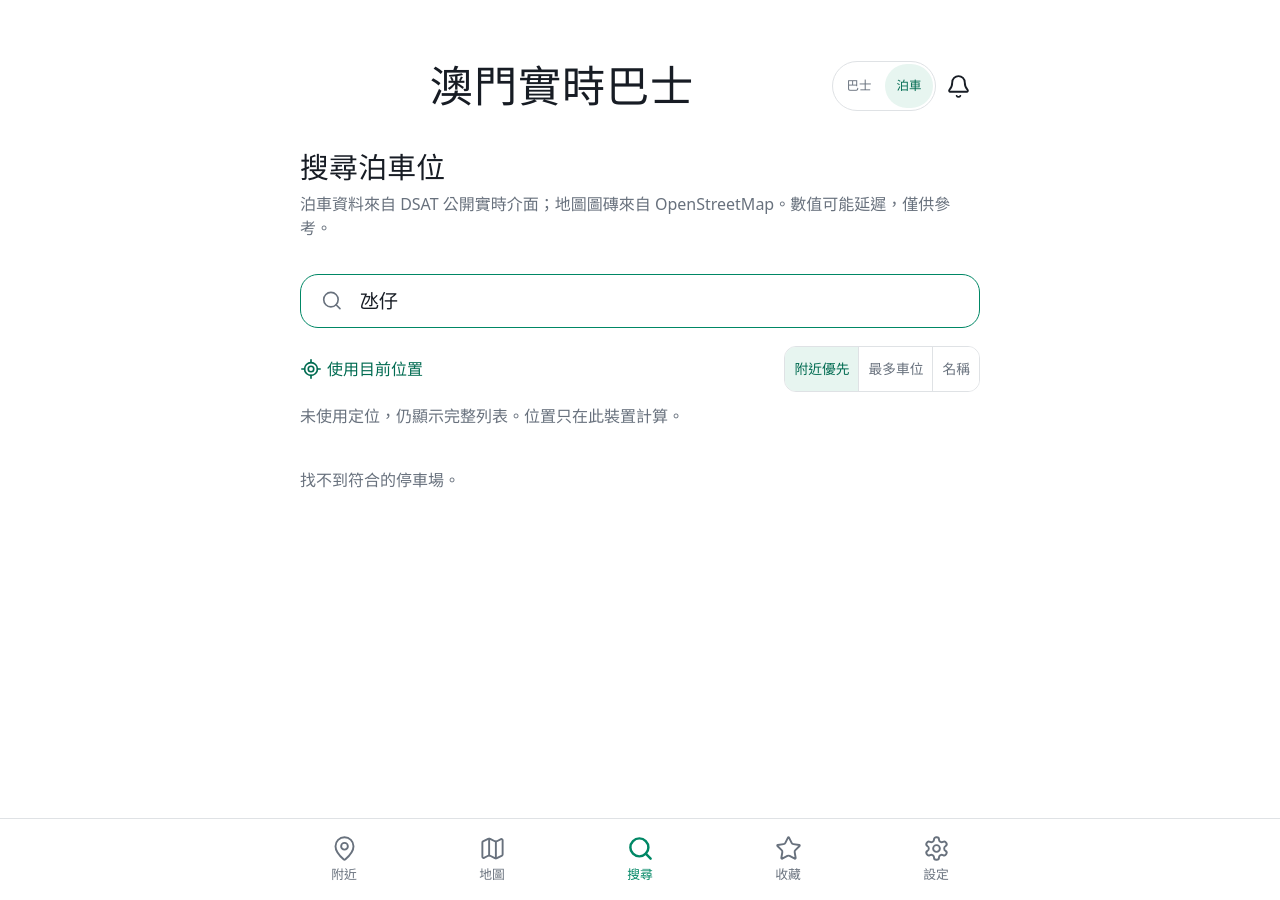
Test: app Pages asset paths › remembers a parking search query while switching modes
Expected: the search field named "搜尋停車場名稱或位置" holds "氹仔", [358,286,959,316]
Click the button with aria-label "切換至巴士模式". click: (859, 86)
box: [835,64,883,108]
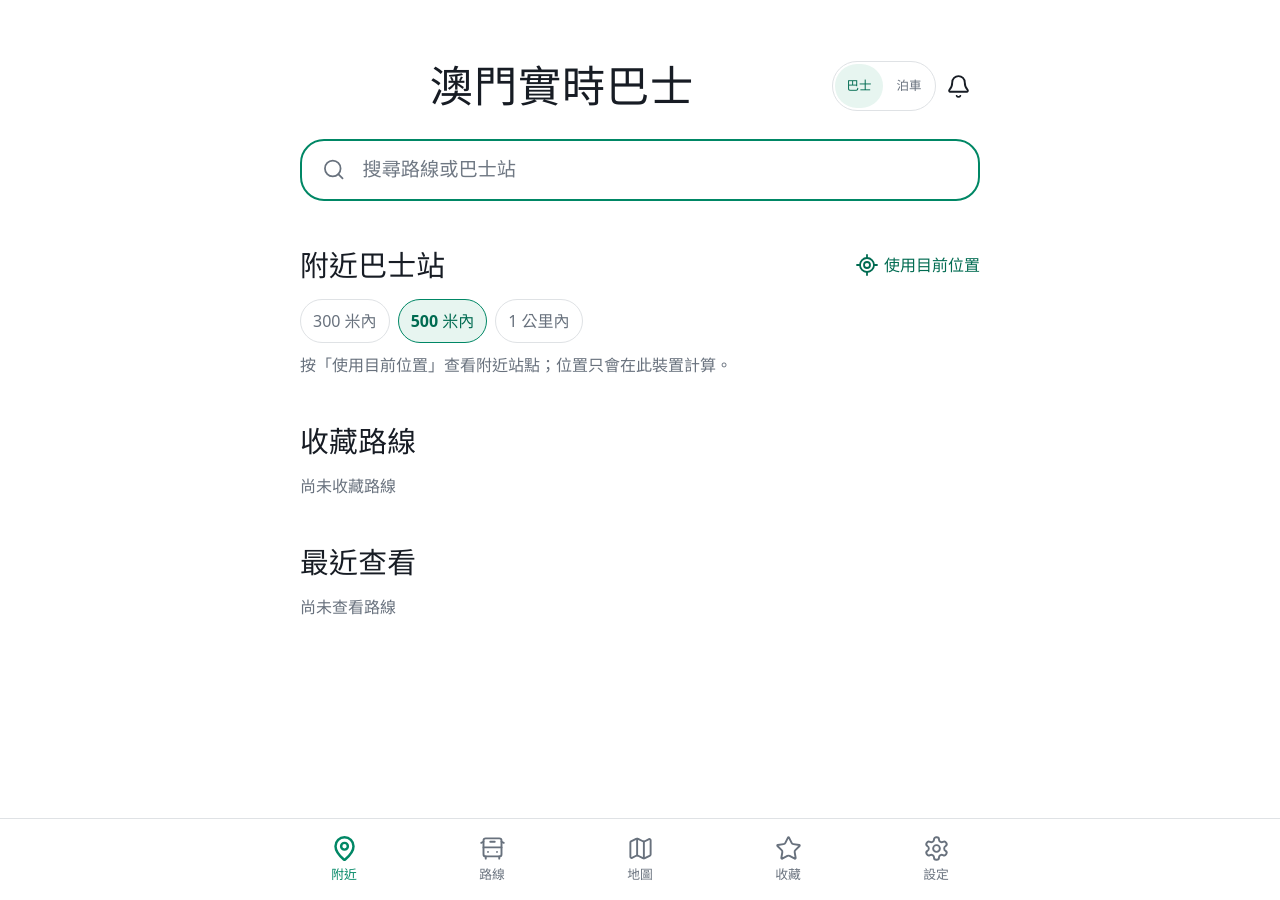
Click the button with aria-label "切換至泊車模式". click: (909, 86)
box: [885,64,933,108]
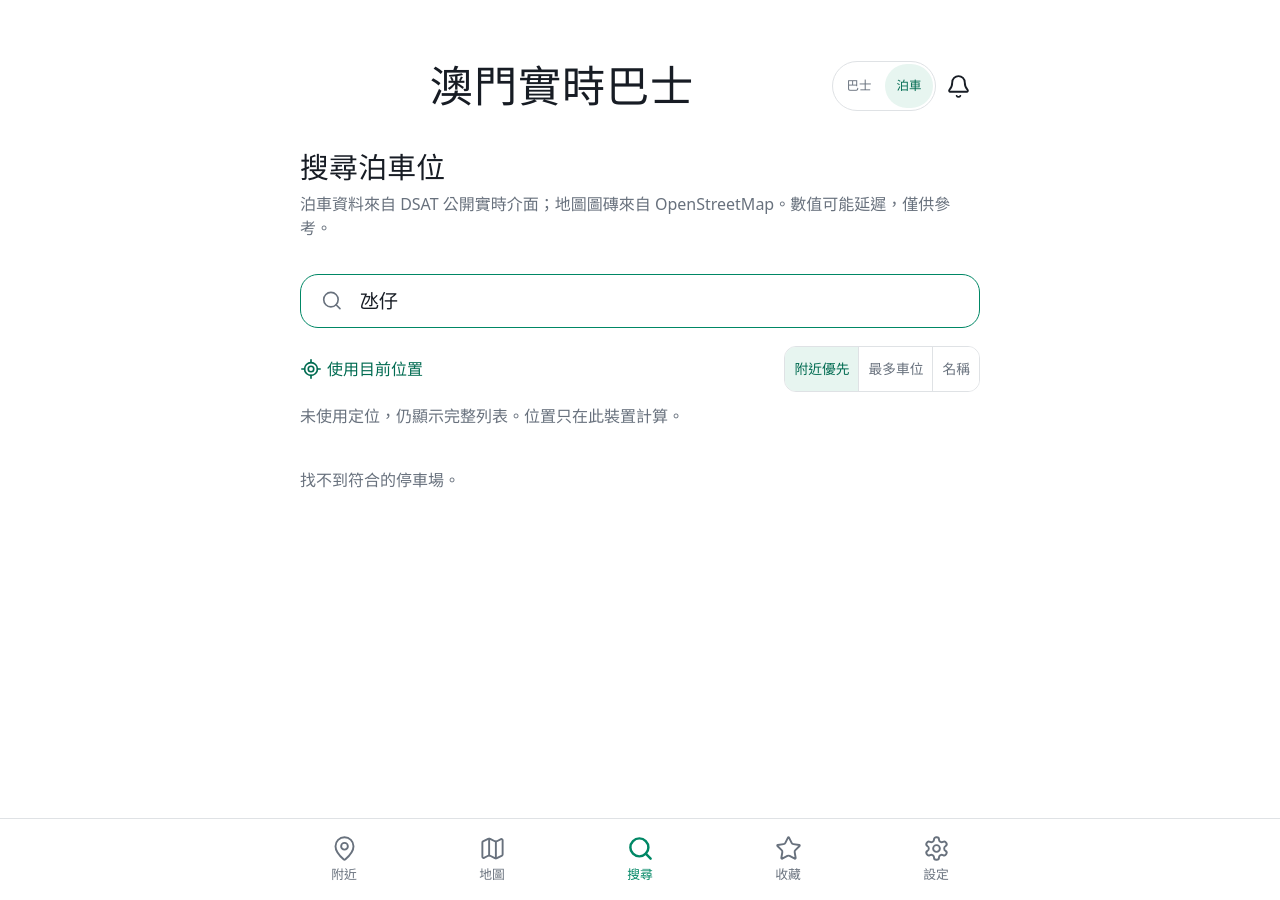
Expected: the search field named "搜尋停車場名稱或位置" holds "氹仔", [358,286,959,316]
